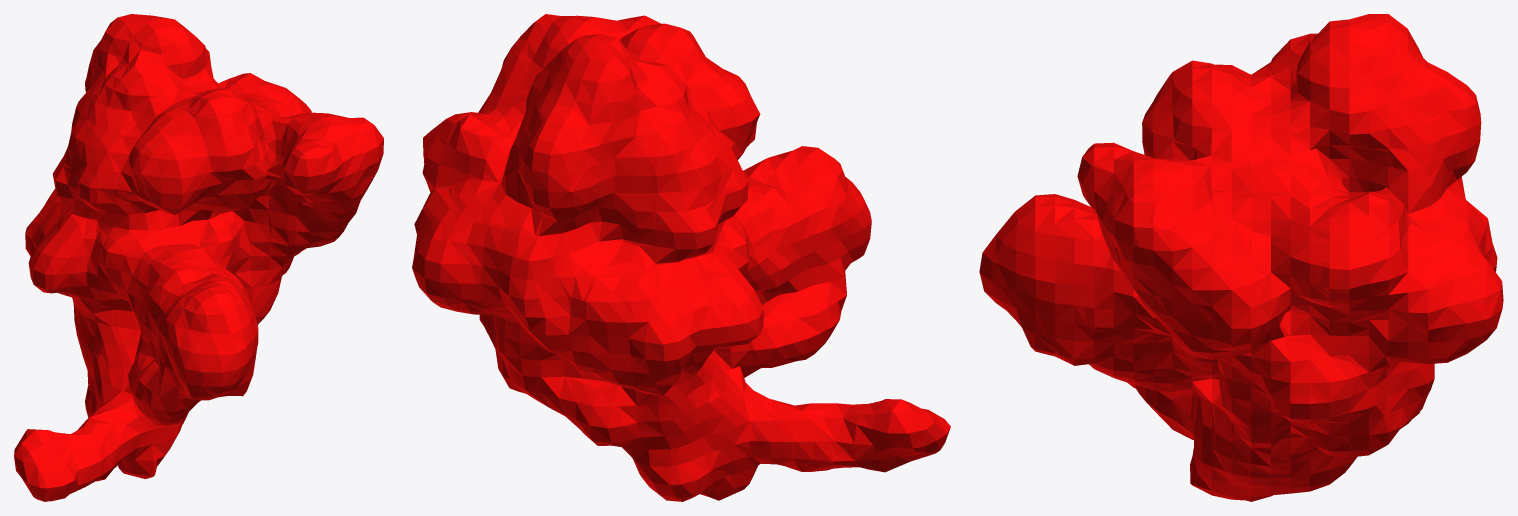
Rendered from Heat_shock_cognate_71_kDa_prot_coarse.dae.
3 renders of one model, left to right at view 1: azimuth 30°, elevation 25°; view 2: azimuth 150°, elevation 25°; view 3: azimuth 270°, elevation 25°, orthographic. The views are drawn at different scales.
Visible parts, largest first — view 1: Heat_shock_cognate_71_kDa_prot; view 2: Heat_shock_cognate_71_kDa_prot; view 3: Heat_shock_cognate_71_kDa_prot.
Boxes of the visible parts, x1=… form: Heat_shock_cognate_71_kDa_prot: x1=14, y1=14, x2=383, y2=501; Heat_shock_cognate_71_kDa_prot: x1=412, y1=14, x2=950, y2=501; Heat_shock_cognate_71_kDa_prot: x1=979, y1=14, x2=1503, y2=501.
Size of the model in its own units: 105 by 112 by 103.
